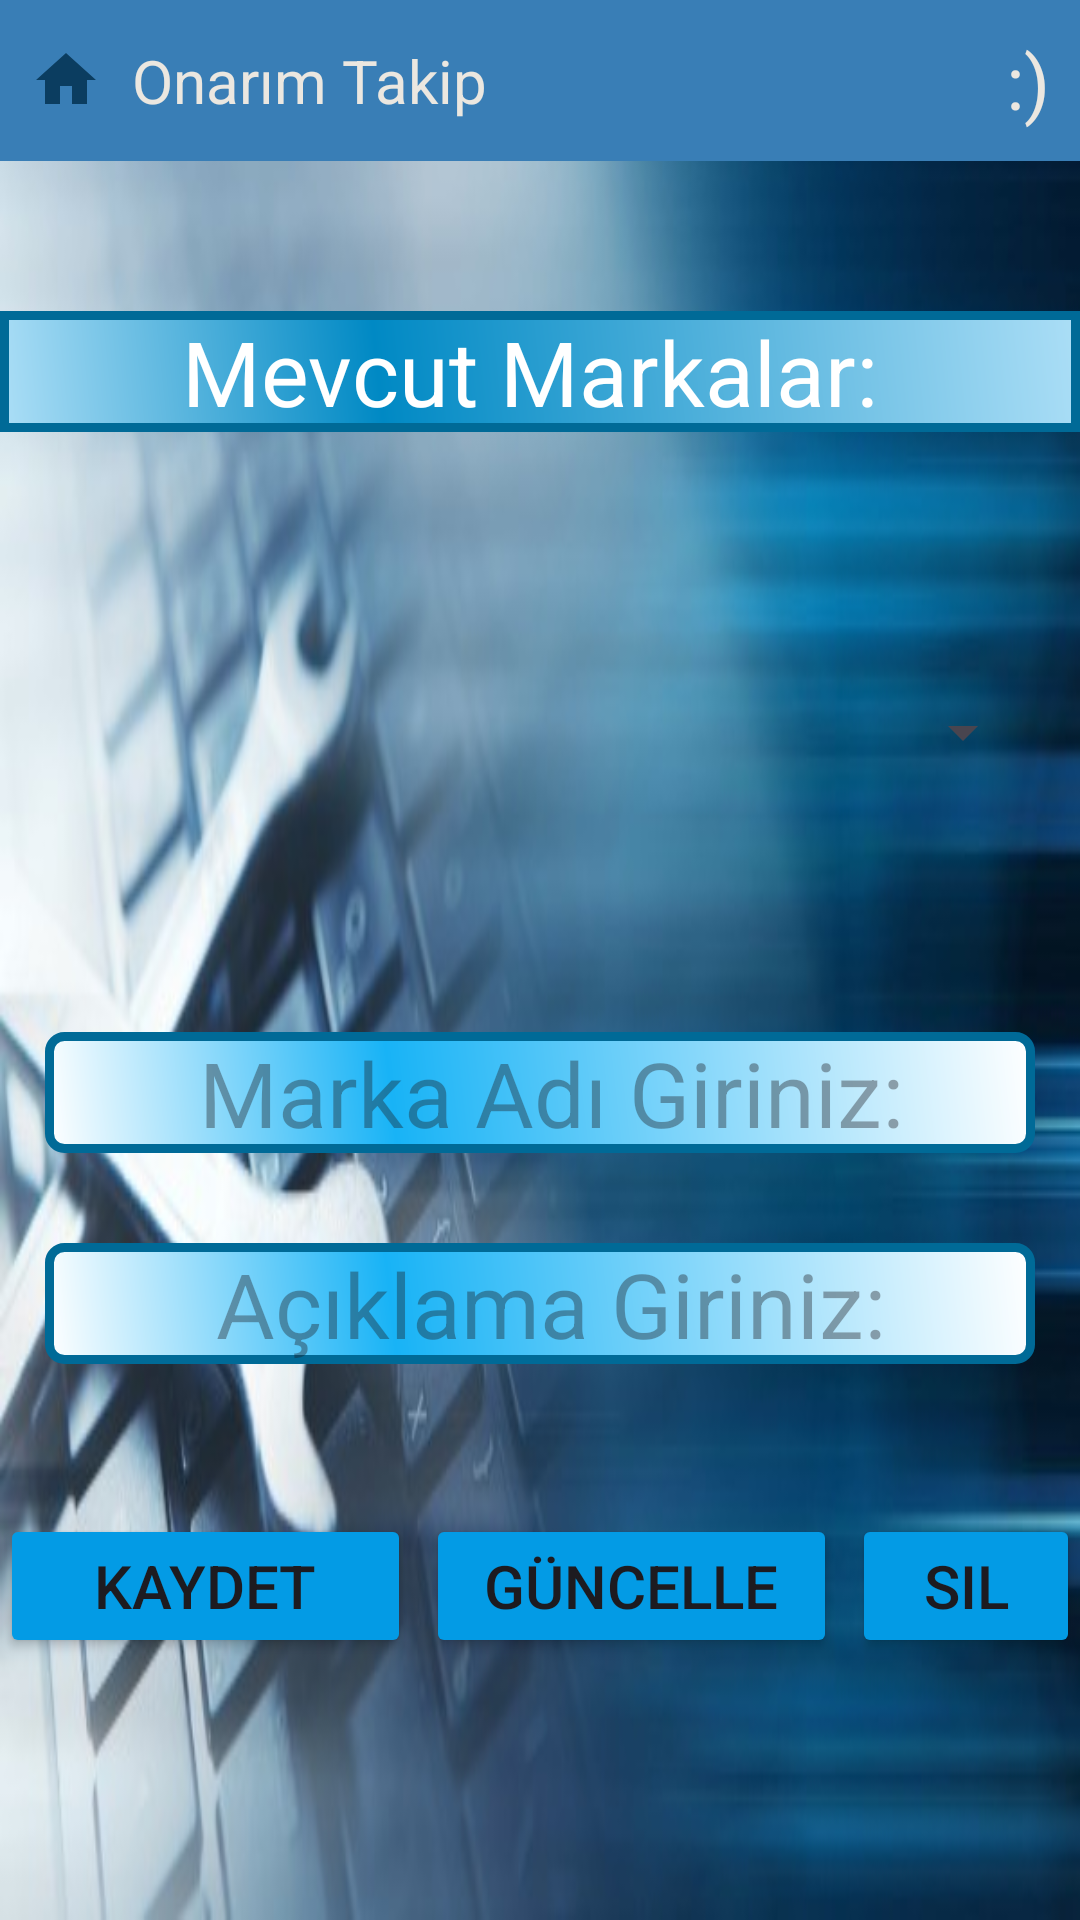

Locate icon controls on the screen. Image size 1080px x 1920px, boxes as (x1, y1, x2, y2).
home: (36, 53, 96, 104)
